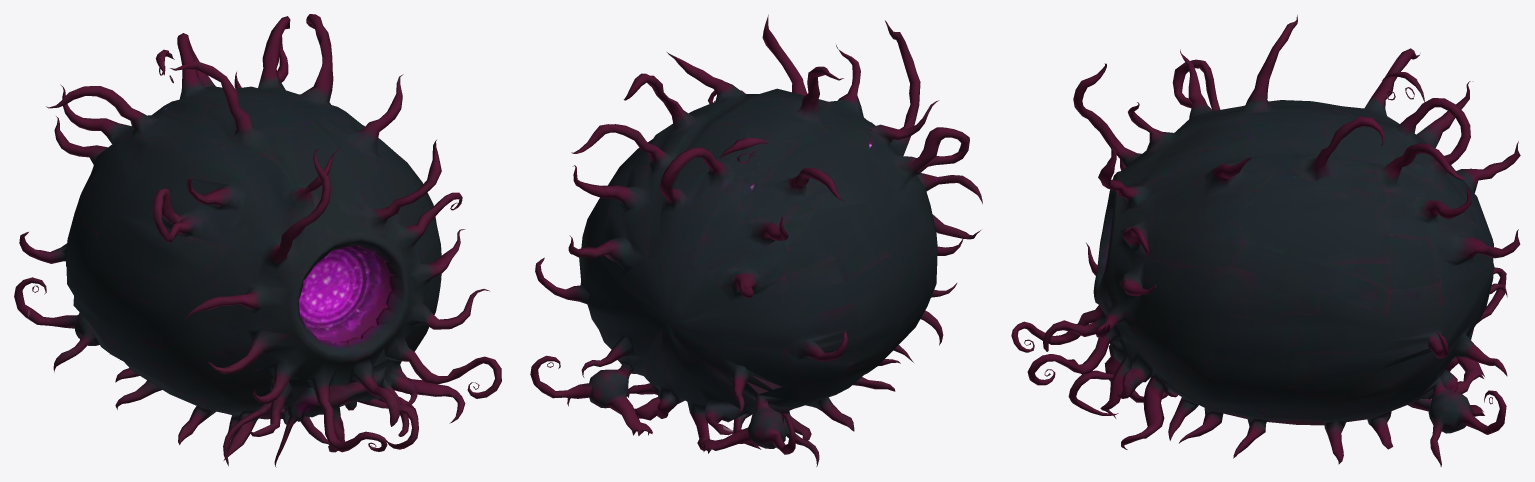
File: l_hivemound.glb
3 renders of one model, left to right at view 1: azimuth 30°, elevation 25°; view 2: azimuth 150°, elevation 25°; view 3: azimuth 270°, elevation 25°, orthographic. The views are drawn at different scales.
Bounding box in the file's own units: 0.7109 × 0.7359 × 0.9556.
Materials: 1 (1 with a texture image).
